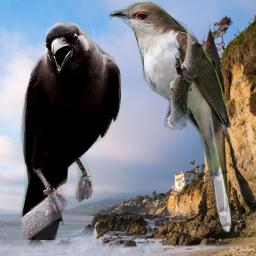Crow: (19, 22, 121, 240)
Cuckoo: (107, 1, 233, 234)
